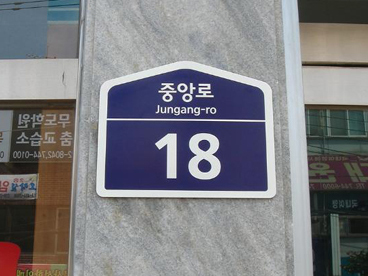building_license_plate1: (95, 60, 277, 198)
